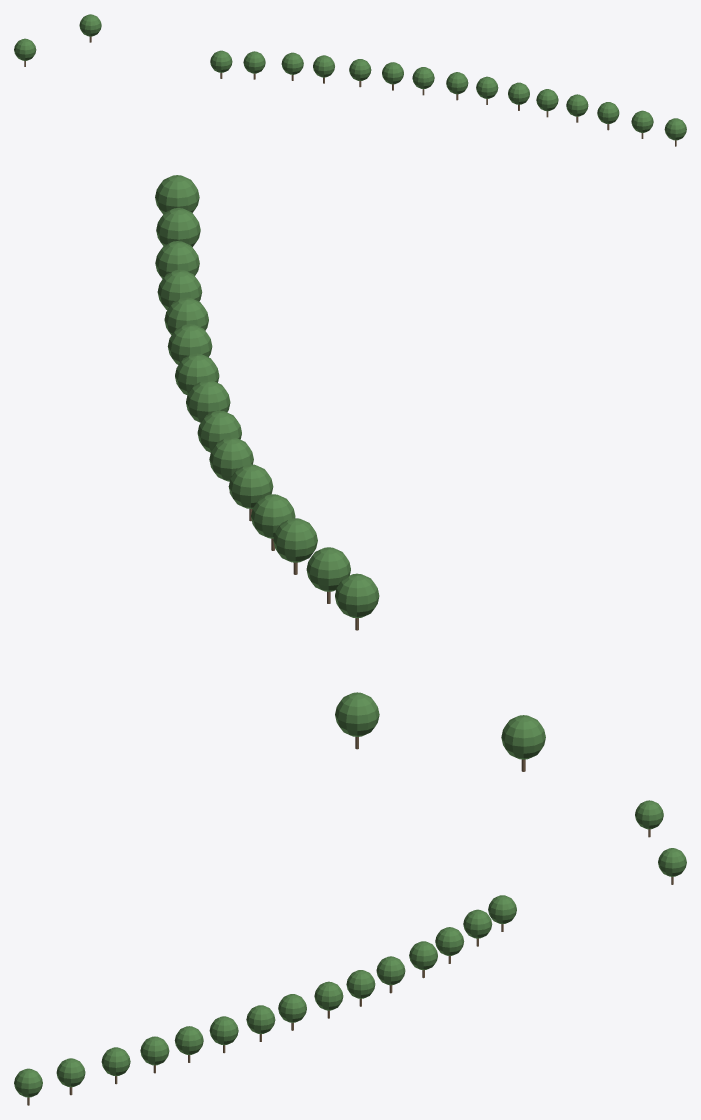
Rendered from trees-660-12978-ba6f3c859226.glb.
3 renders of one model, top to bottom at view 1: azimuth 30°, elevation 25°; view 2: azimuth 150°, elevation 25°; view 3: azimuth 270°, elevation 25°, orthographic. The views are drawn at different scales.
Bounding box in the file's own units: 267 × 19.32 × 278.
